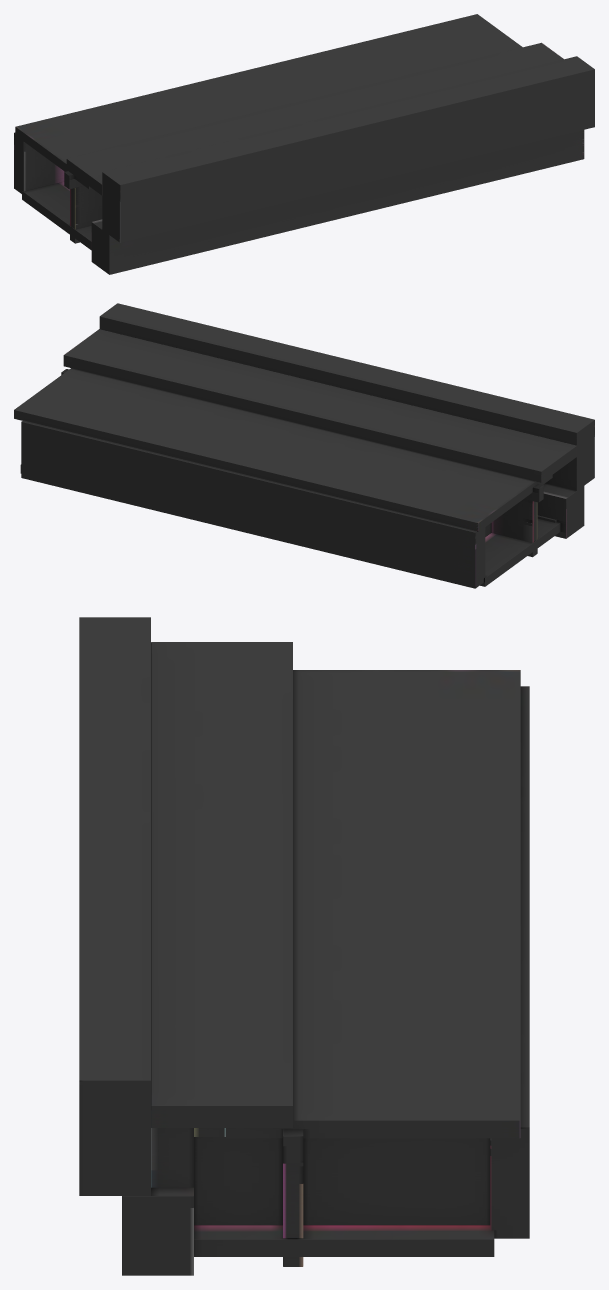
Rendered from week1scene.gltf.
The picture shows the model from 3 angles, top to bottom: view 1: azimuth 30°, elevation 25°; view 2: azimuth 150°, elevation 25°; view 3: azimuth 270°, elevation 25°; orthographic projection. The views are drawn at different scales.
Visible parts, largest first — view 1: Cube; view 2: Cube; view 3: Cube.
Part boxes in pixels (box(x1,y1,x2,y2)): Cube: box(14, 14, 594, 274); Cube: box(14, 303, 594, 588); Cube: box(79, 617, 529, 1275).
Size of the model in its own units: 114 by 22.4 by 46.86.
Materials: 1 (1 with a texture image).
